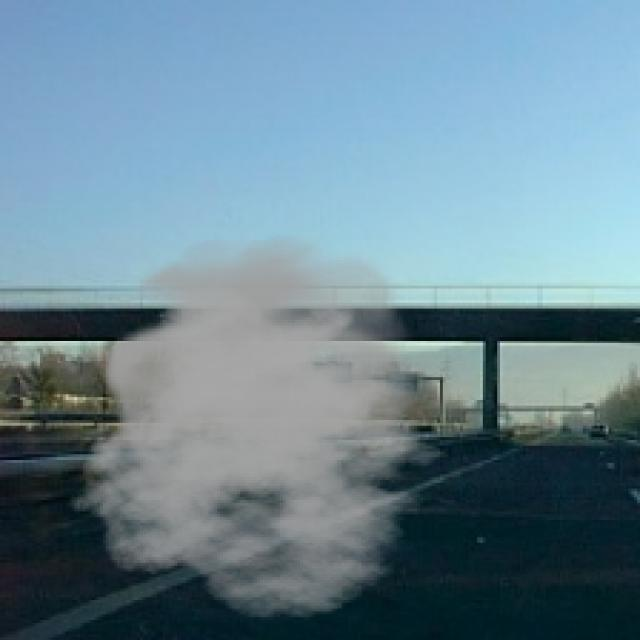Smoke: (68, 235, 466, 620)
